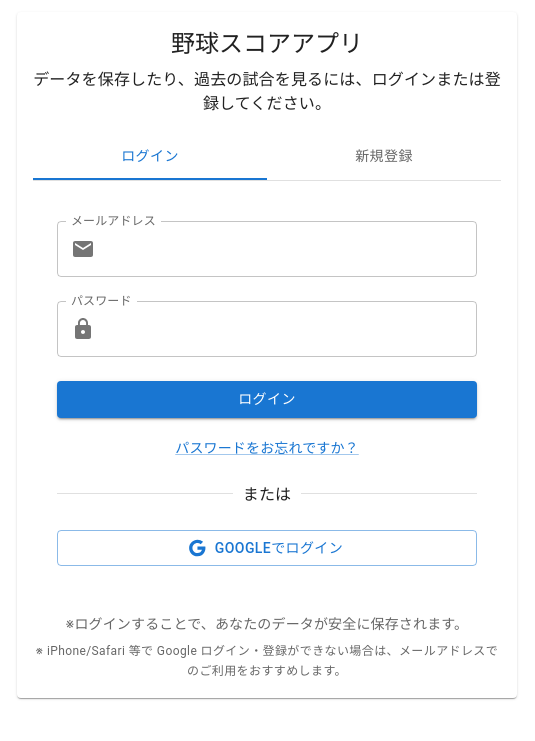
it: Login component - Google Sign In › 新規登録タブの「Googleで登録」でも同様にエラーハンドリングが行われる
Click the tab "新規登録". click: (384, 156)
box: [267,132,501,180]
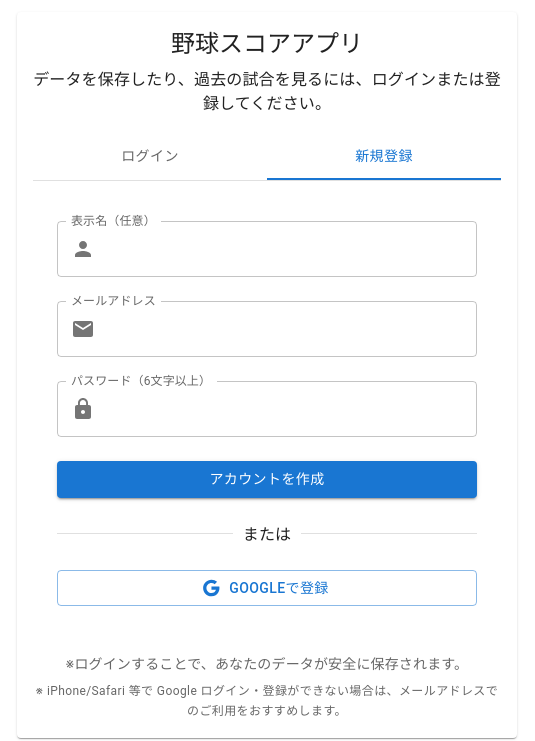
Click the button "Googleで登録". click: (267, 588)
box: [57,570,477,606]
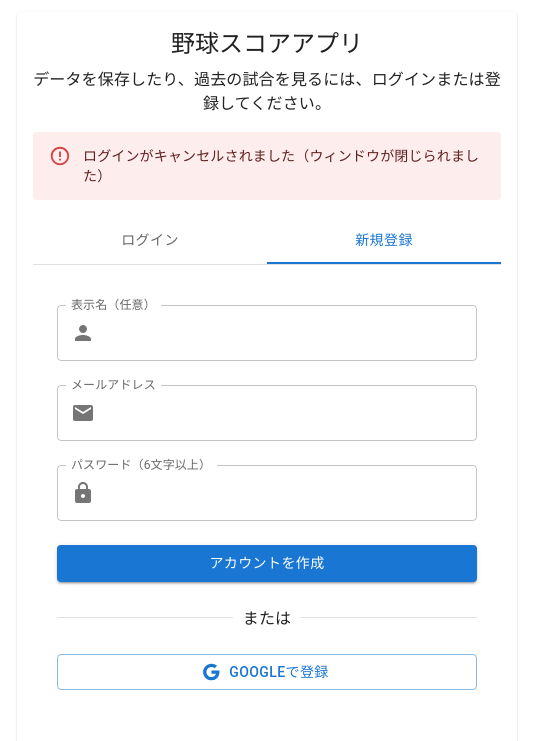
Now the message reads "ログインがキャンセルされました（ウィンドウが閉じられました）", box [83,148,479,184]
